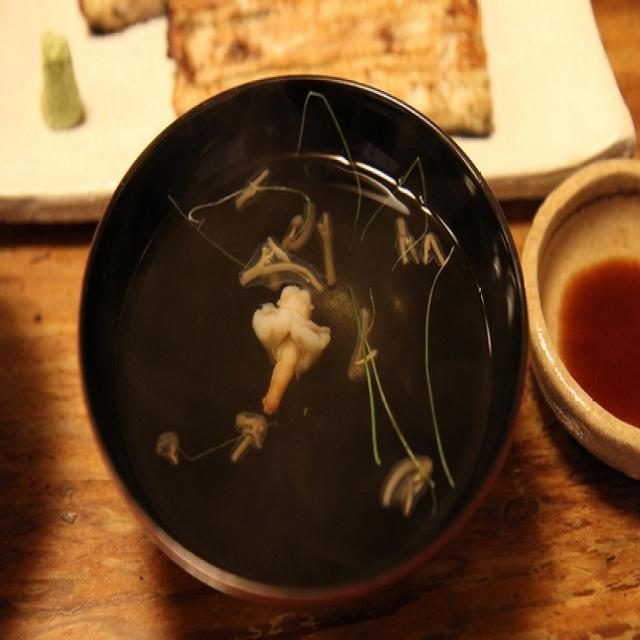汤锅炖物: (69, 51, 540, 614)
